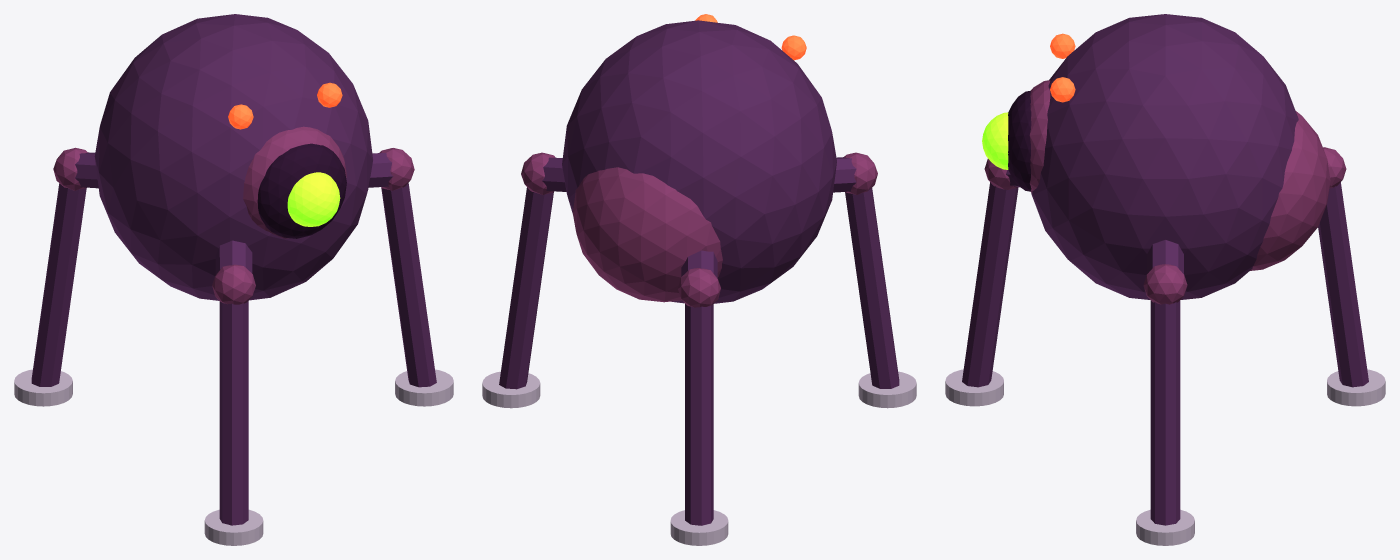
The model's file is spitter.glb.
The picture shows the model from 3 angles, left to right: view 1: azimuth 30°, elevation 25°; view 2: azimuth 150°, elevation 25°; view 3: azimuth 270°, elevation 25°; orthographic projection.
Visible parts, largest first — view 1: sac, leg2, foot, mouth, knee, lip, acid, leg; view 2: sac, leg2, sac2, foot, knee, leg; view 3: sac, leg2, sac2, foot, knee, mouth, lip, acid, leg.
Part boxes in pixels (x1=…): sac: x1=94, y1=14, x2=372, y2=300; leg2: x1=31, y1=183, x2=436, y2=525; foot: x1=14, y1=369, x2=453, y2=545; mouth: x1=257, y1=143, x2=346, y2=238; knee: x1=53, y1=147, x2=414, y2=304; lip: x1=243, y1=126, x2=346, y2=238; acid: x1=287, y1=172, x2=340, y2=226; leg: x1=75, y1=152, x2=393, y2=274; sac: x1=562, y1=20, x2=836, y2=303; leg2: x1=499, y1=187, x2=899, y2=525; sac2: x1=573, y1=167, x2=722, y2=302; foot: x1=482, y1=371, x2=916, y2=545; knee: x1=521, y1=152, x2=877, y2=307; leg: x1=542, y1=157, x2=856, y2=277; sac: x1=1031, y1=14, x2=1298, y2=299; leg2: x1=962, y1=182, x2=1368, y2=525; sac2: x1=1250, y1=111, x2=1330, y2=270; foot: x1=945, y1=369, x2=1385, y2=545; knee: x1=984, y1=147, x2=1346, y2=304; mouth: x1=1008, y1=90, x2=1031, y2=191; lip: x1=1029, y1=80, x2=1050, y2=192; acid: x1=982, y1=112, x2=1008, y2=169; leg: x1=1006, y1=170, x2=1183, y2=273.
Bounding box in the file's own units: 1.06 × 1.25 × 1.2.
